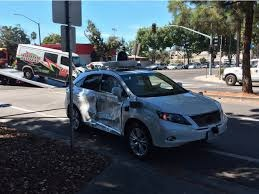Broken-glass: (123, 73, 186, 93)
Smashed: (77, 79, 123, 132)
